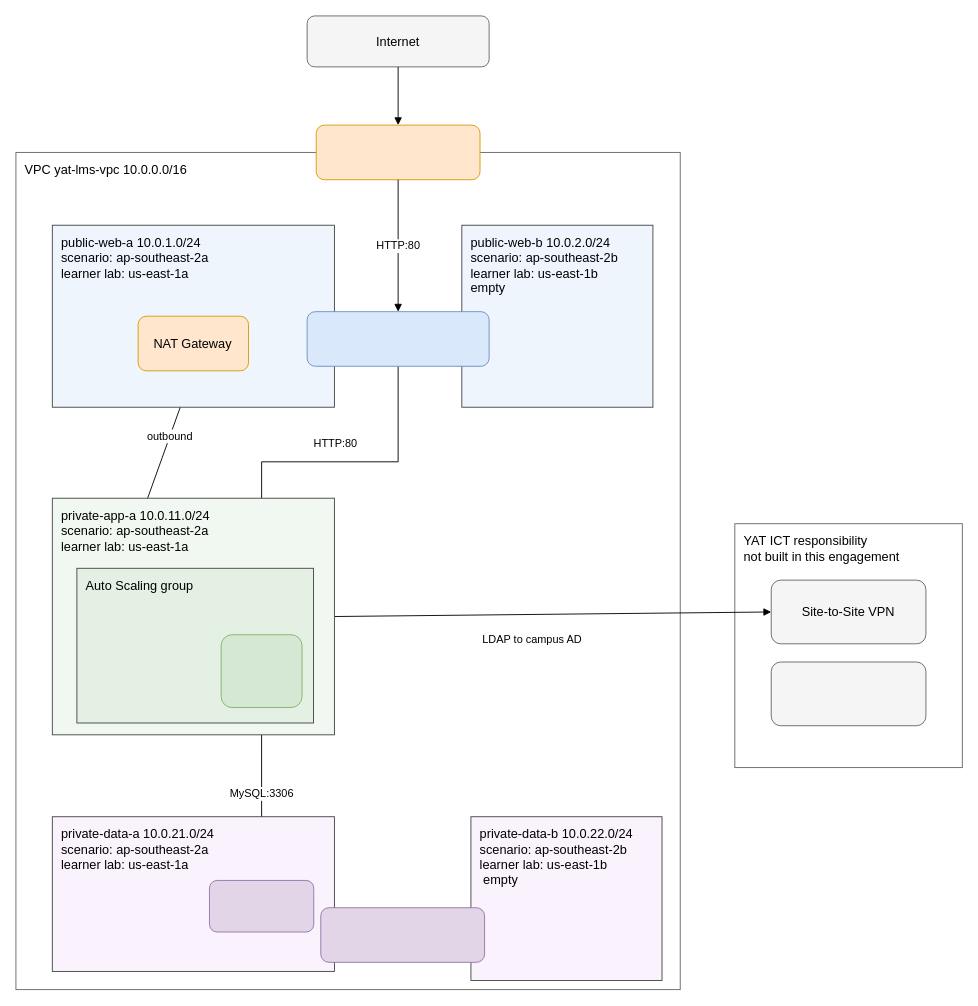
This 978x1006 diagram has some shape labels left out. Here are the shapes that lost their labels. From the top down, the centre of each, then its label:
the point at 397,152: Internet Gateway
the point at 397,338: Application Load Balancer
the point at 261,671: EC2 Windows Server
the point at 848,693: YAT Campus Active Directory
the point at 261,906: RDS for MySQL
the point at 402,934: DB subnet group
